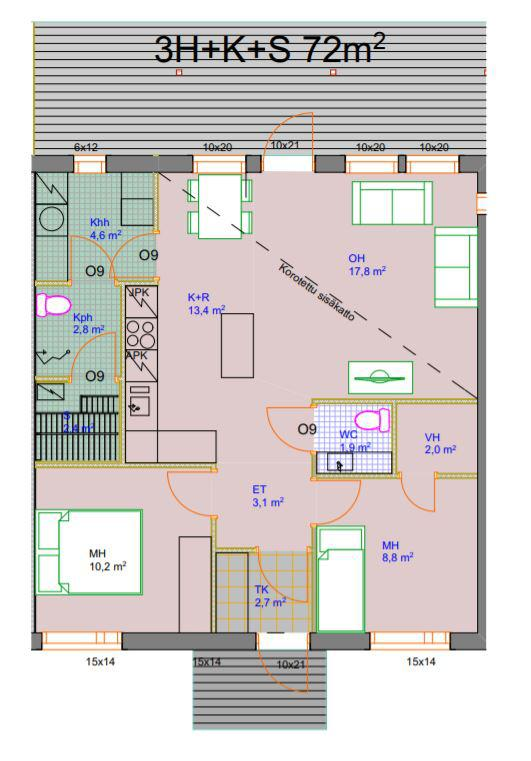bathroom: (37, 286, 118, 380)
door: (251, 543, 315, 605), (255, 629, 315, 694), (259, 110, 315, 174), (163, 469, 223, 520), (67, 232, 120, 286), (310, 475, 362, 528), (109, 230, 161, 281), (65, 333, 117, 382), (264, 404, 316, 451), (398, 468, 442, 515)
perimeter: (33, 155, 486, 652)
window: (36, 629, 128, 654), (367, 631, 457, 652), (400, 152, 468, 176), (185, 152, 253, 175), (340, 150, 405, 174), (68, 152, 111, 177), (475, 188, 491, 218)
